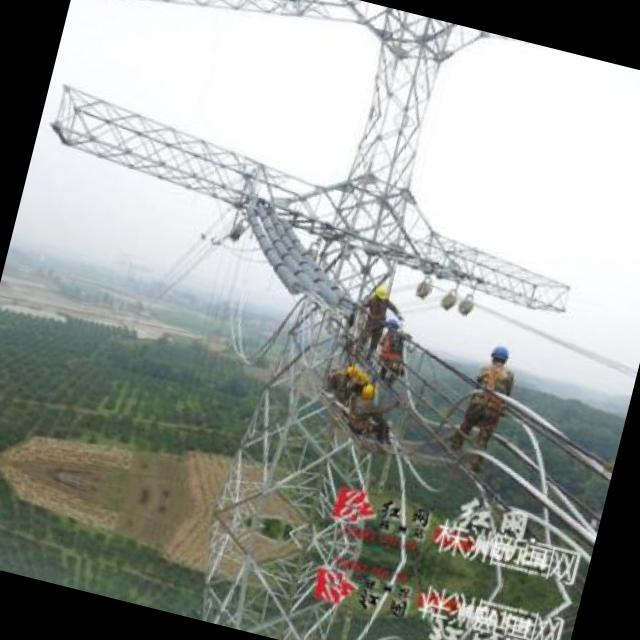helmet: (486, 337, 512, 367), (357, 378, 381, 401), (370, 282, 392, 303), (342, 358, 359, 379), (354, 368, 372, 386)
